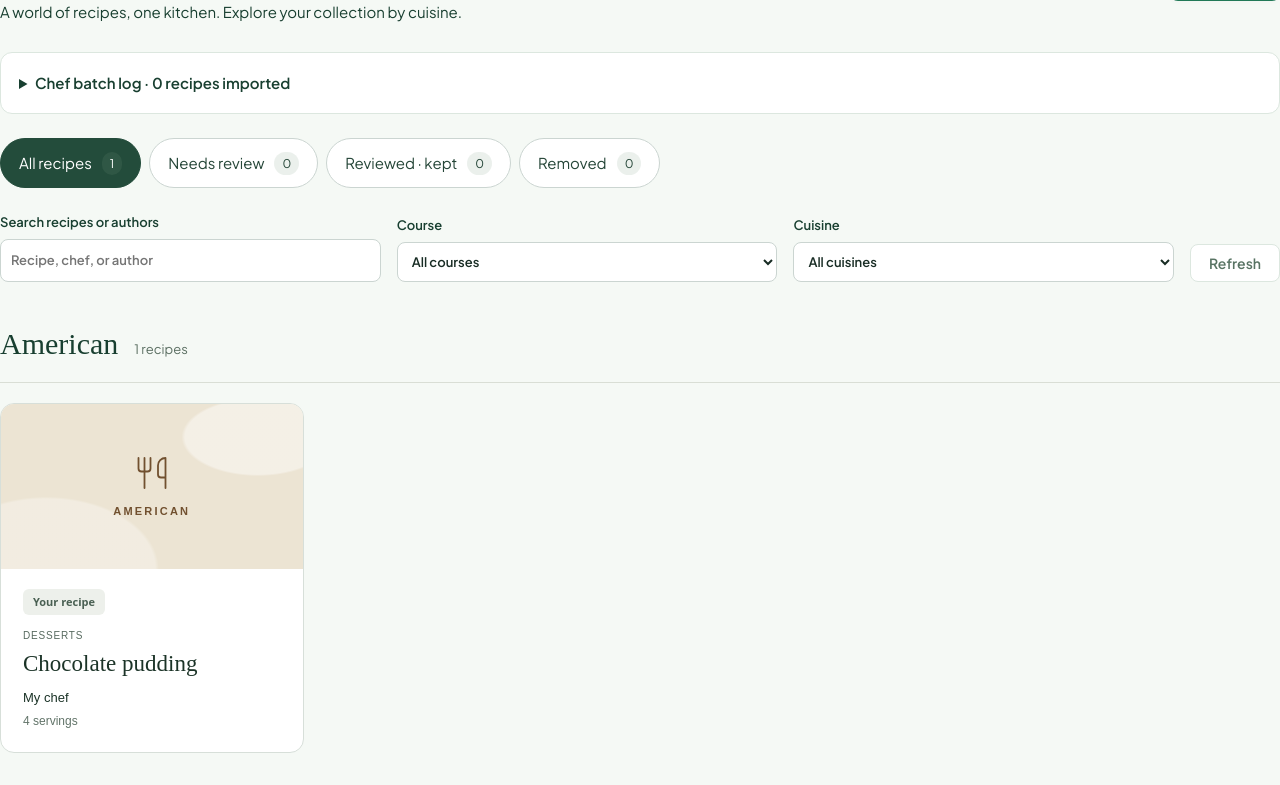
Test: keeps the draft visible after a failed save
The image size is (1280, 785).
(page scrolled)
What coordinates should you click on to do the following:
click the button "Chocolate pudding"
I would click on:
 (152, 486)
Its box is [0, 403, 304, 753].
(page scrolled)
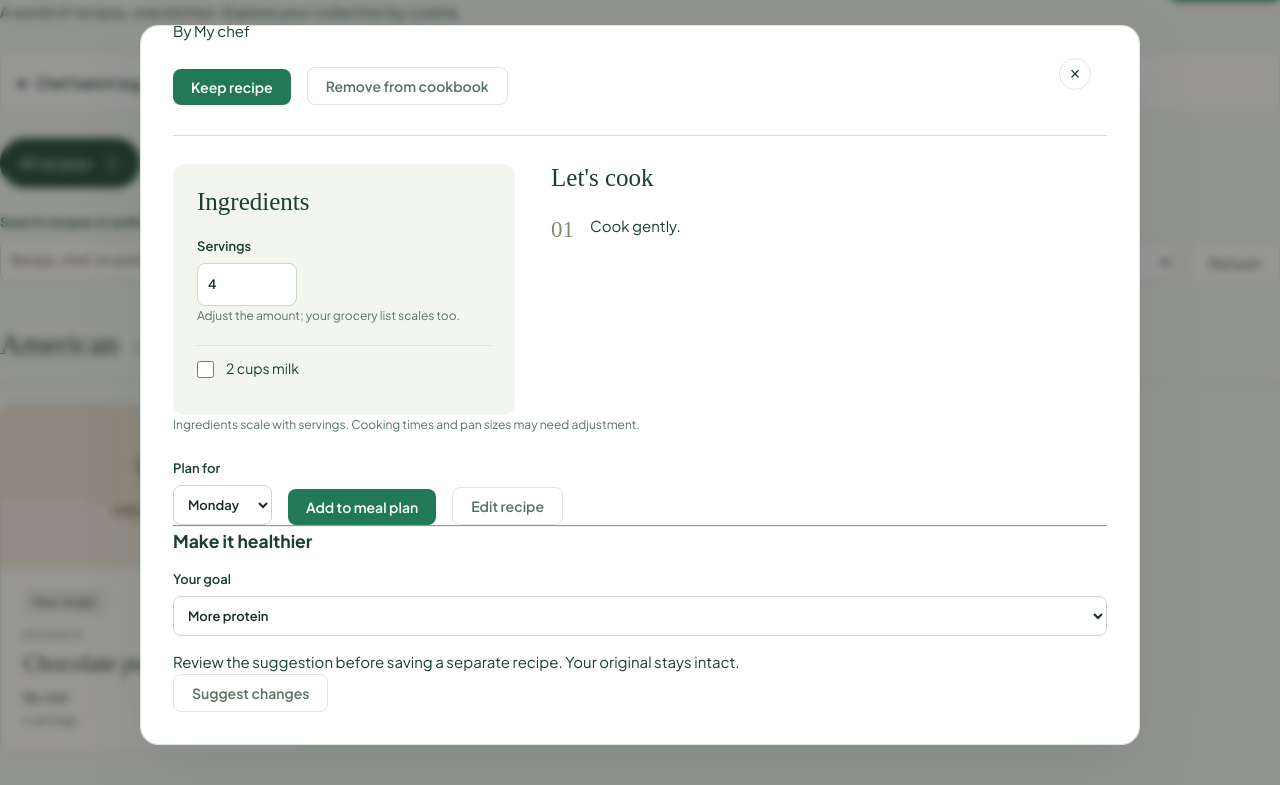
What coordinates should you click on to do the following:
click the button "Edit recipe"
I would click on:
 (508, 506)
Its box is [452, 487, 563, 525].
(page scrolled)
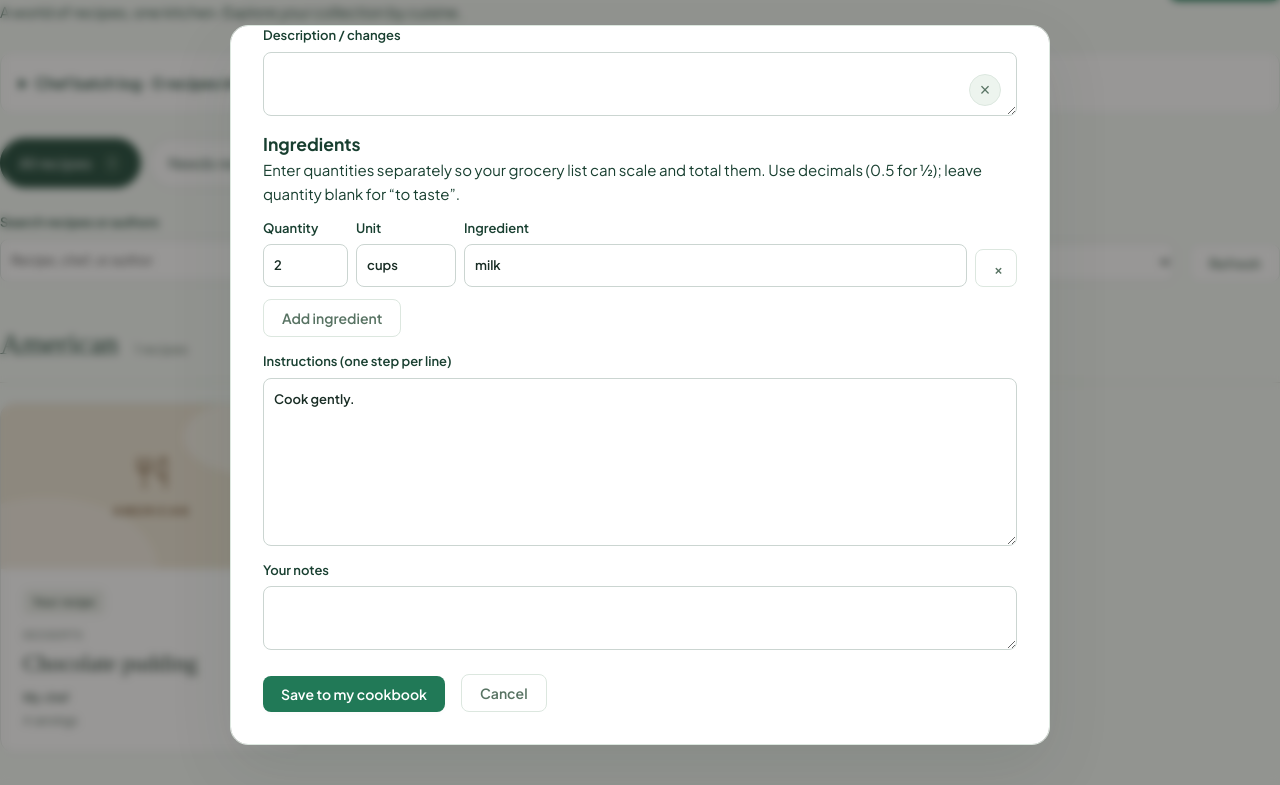
What coordinates should you click on to do the following:
click the button "Save to my cookbook"
I would click on:
 (354, 694)
Its box is [263, 676, 445, 712].
(page scrolled)
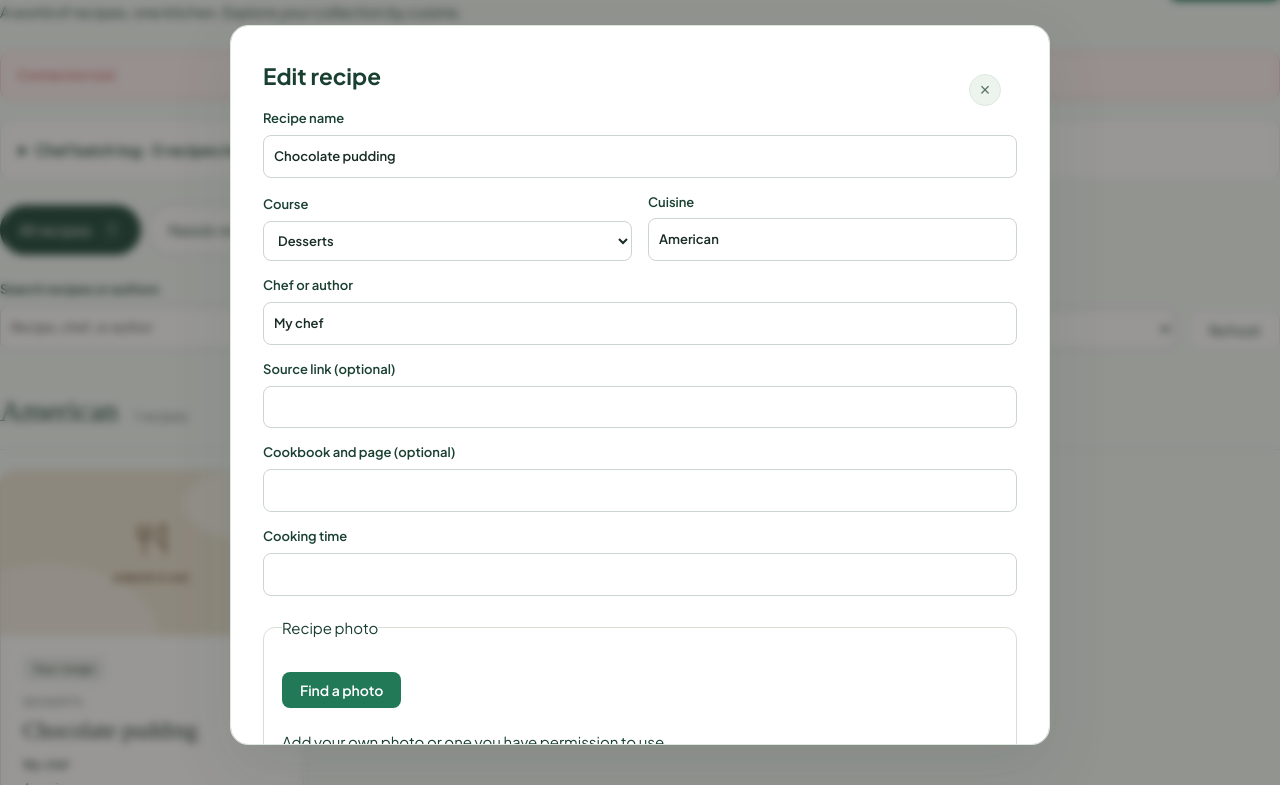
Check: the text "Connection lost" is shown, box [0, 52, 1279, 99]
Check: the field labelled "Recipe name" holds "Chocolate pudding", box [263, 135, 1017, 178]
